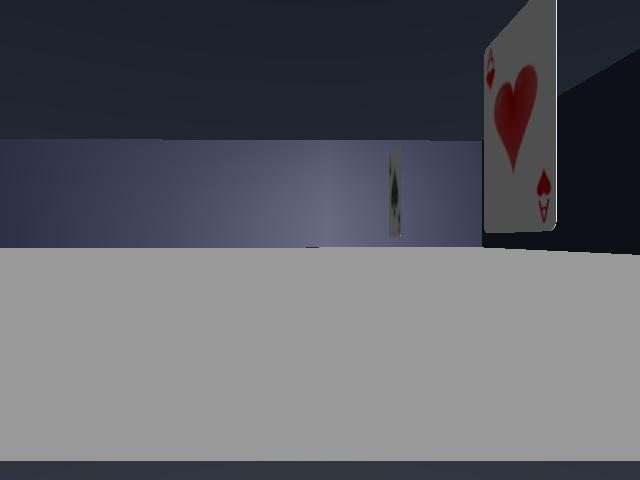club: (389, 145, 400, 236)
